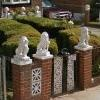Statue: (13, 27, 63, 66)
